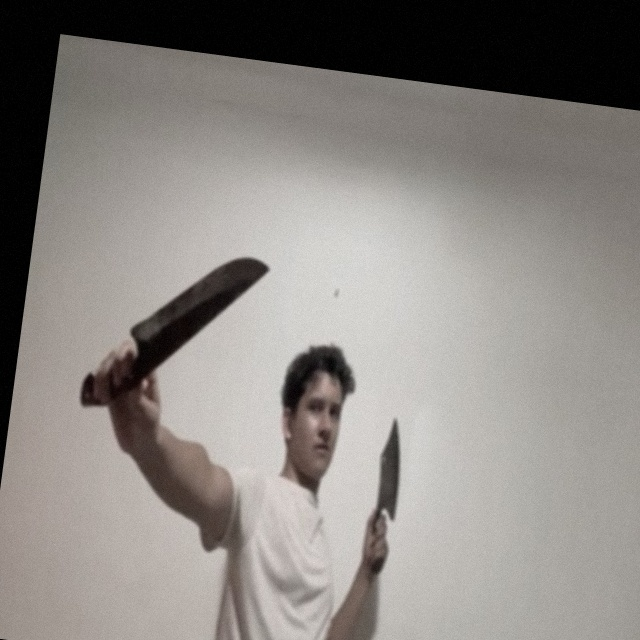Sharp-Object: (129, 241, 271, 366), (370, 413, 411, 519)
